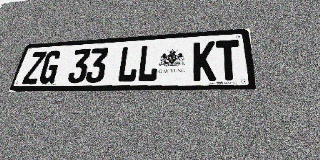3: (84, 47, 109, 83), (67, 49, 91, 83)
G: (37, 50, 63, 84)
K: (193, 41, 216, 81)
L: (136, 44, 160, 82), (116, 46, 140, 82)
T: (216, 40, 242, 81)
Z: (22, 51, 47, 84)
